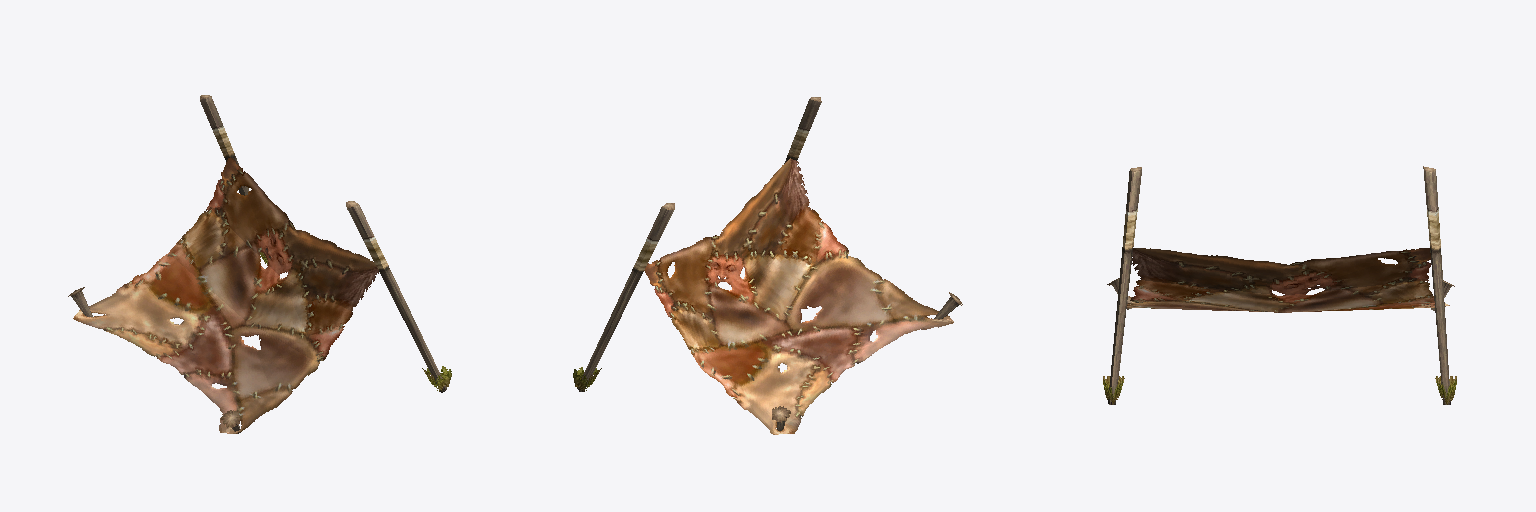
3 renders of one model, left to right at view 1: azimuth 30°, elevation 25°; view 2: azimuth 150°, elevation 25°; view 3: azimuth 270°, elevation 25°, orthographic.
Parts seen in each view (by area): view 1: object 1; view 2: object 1; view 3: object 1.
Boxes of the visible parts, <box> form: object 1: <box>68,95,451,433</box>; object 1: <box>573,97,962,434</box>; object 1: <box>1103,166,1456,404</box>.
Size of the model in its own units: 3.37 by 2.79 by 4.52.
1 materials, 1 textured.